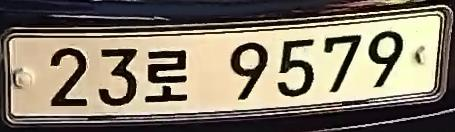2: (46, 44, 93, 110)
3: (96, 42, 140, 108)
5: (274, 31, 318, 101)
7: (321, 31, 365, 95)
9: (226, 36, 272, 104), (366, 29, 405, 90)
로: (141, 43, 193, 107)
